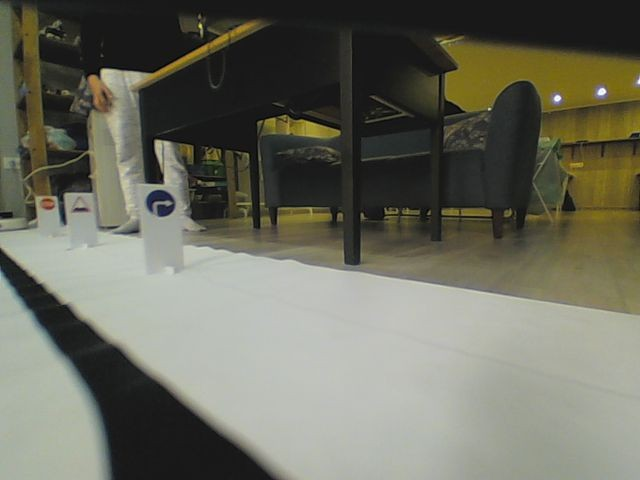Nerov: (68, 195, 91, 215)
Right: (146, 189, 175, 220)
